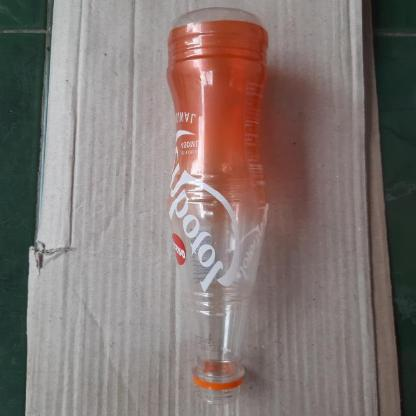Plastic Bottle: (166, 7, 270, 406)
